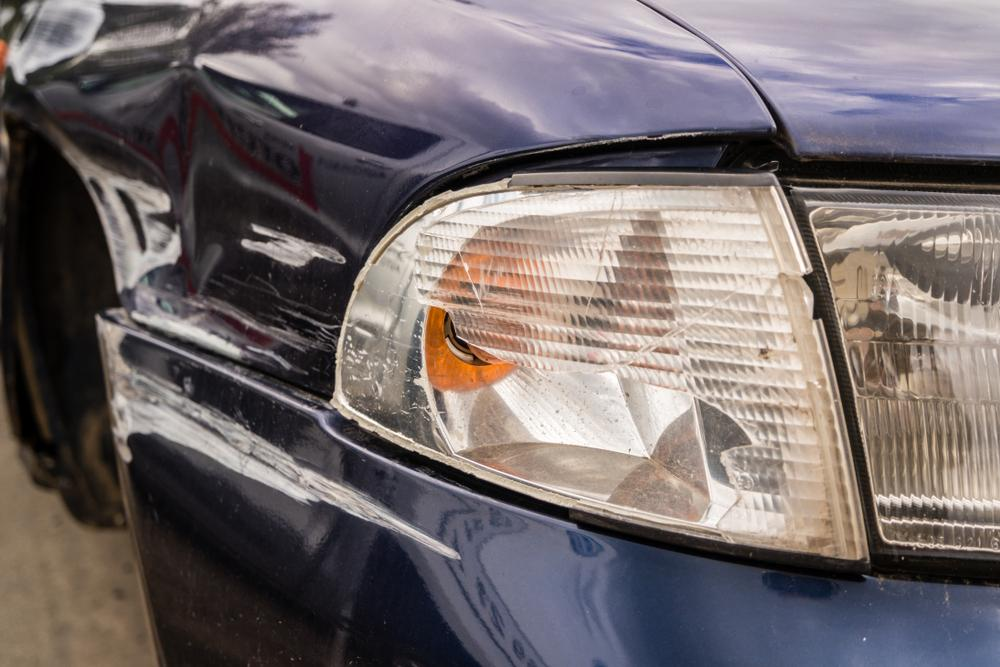dent: (27, 65, 341, 389)
lamp broken: (336, 174, 870, 564)
scratch: (98, 327, 475, 574), (244, 221, 347, 271)
